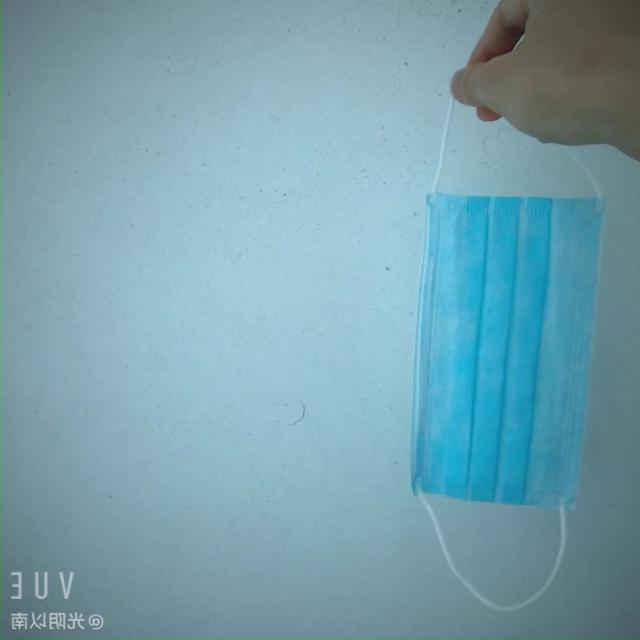face mask: (412, 198, 606, 512)
